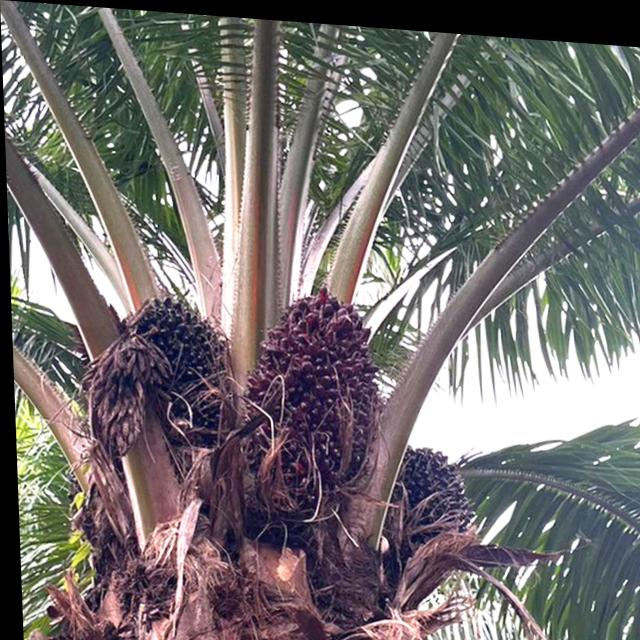ripe: (226, 263, 394, 514)
